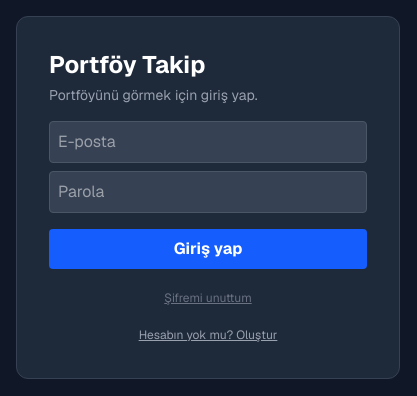
Test: AuthGate — şifremi unuttum akışı › "Şifremi unuttum" tıklanınca parola alanı kaybolur, e-posta kalır
What coordinates should you click on to do the following:
click the button "Şifremi unuttum"
I would click on:
 (208, 298)
Its box is [49,290,367,306].
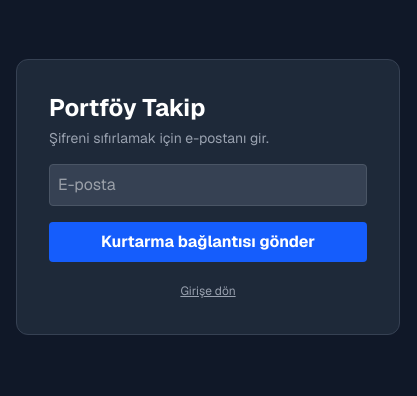
Expected: the field with placeholder "E-posta" is shown, [49,164,367,206]
Now the password field with placeholder "Parola" is gone
Now the button "Kurtarma bağlantısı gönder" is shown, box [49,222,367,262]
